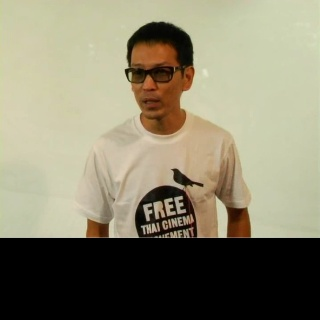without_mask: (130, 40, 185, 119)
